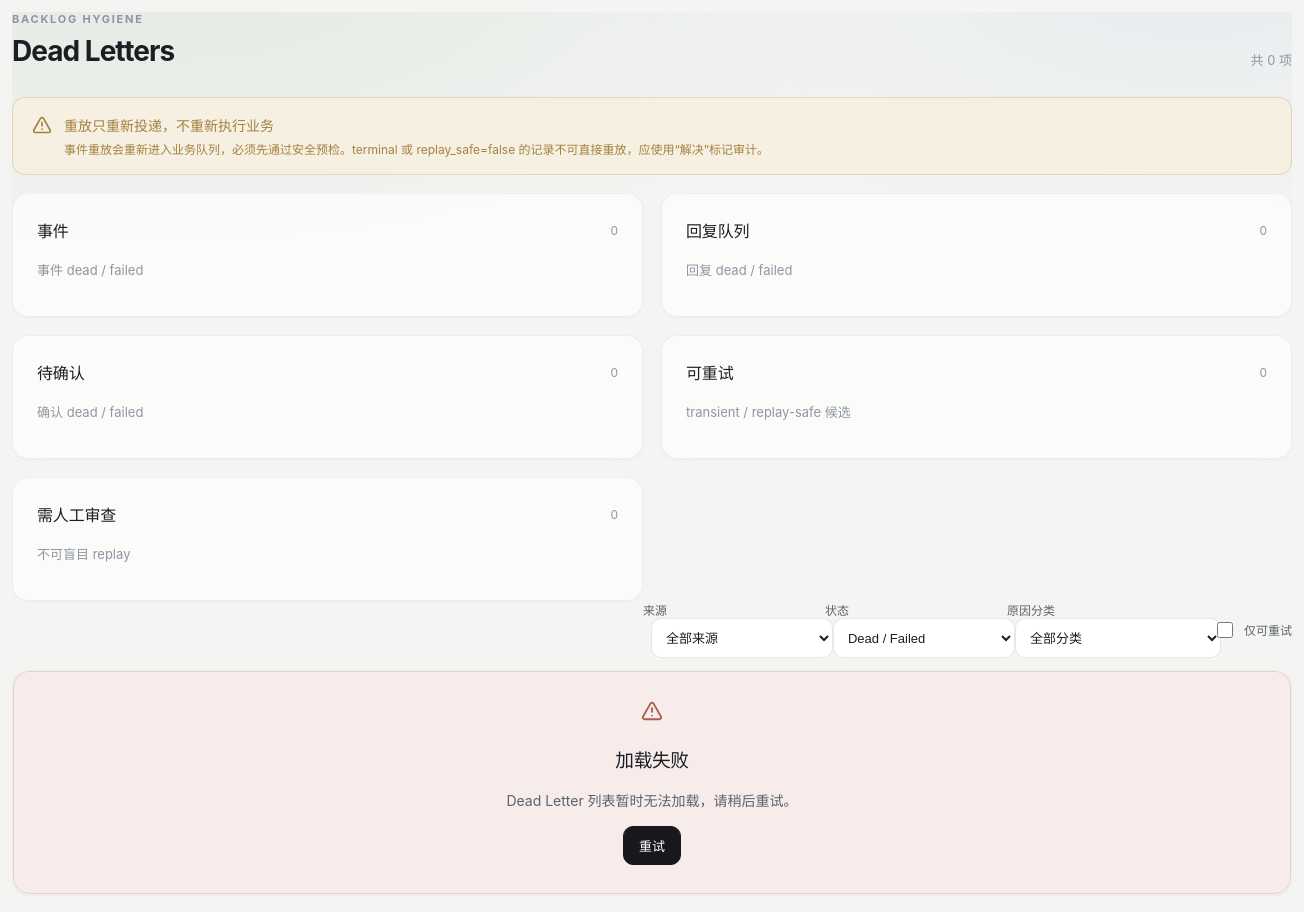
Scenario: DeadLettersPage › shows an error panel and refetches on retry
Expected: the heading "加载失败" is shown, [615,749,689,772]
Click the button "重试".
click(652, 846)  # box [623,826,681,865]
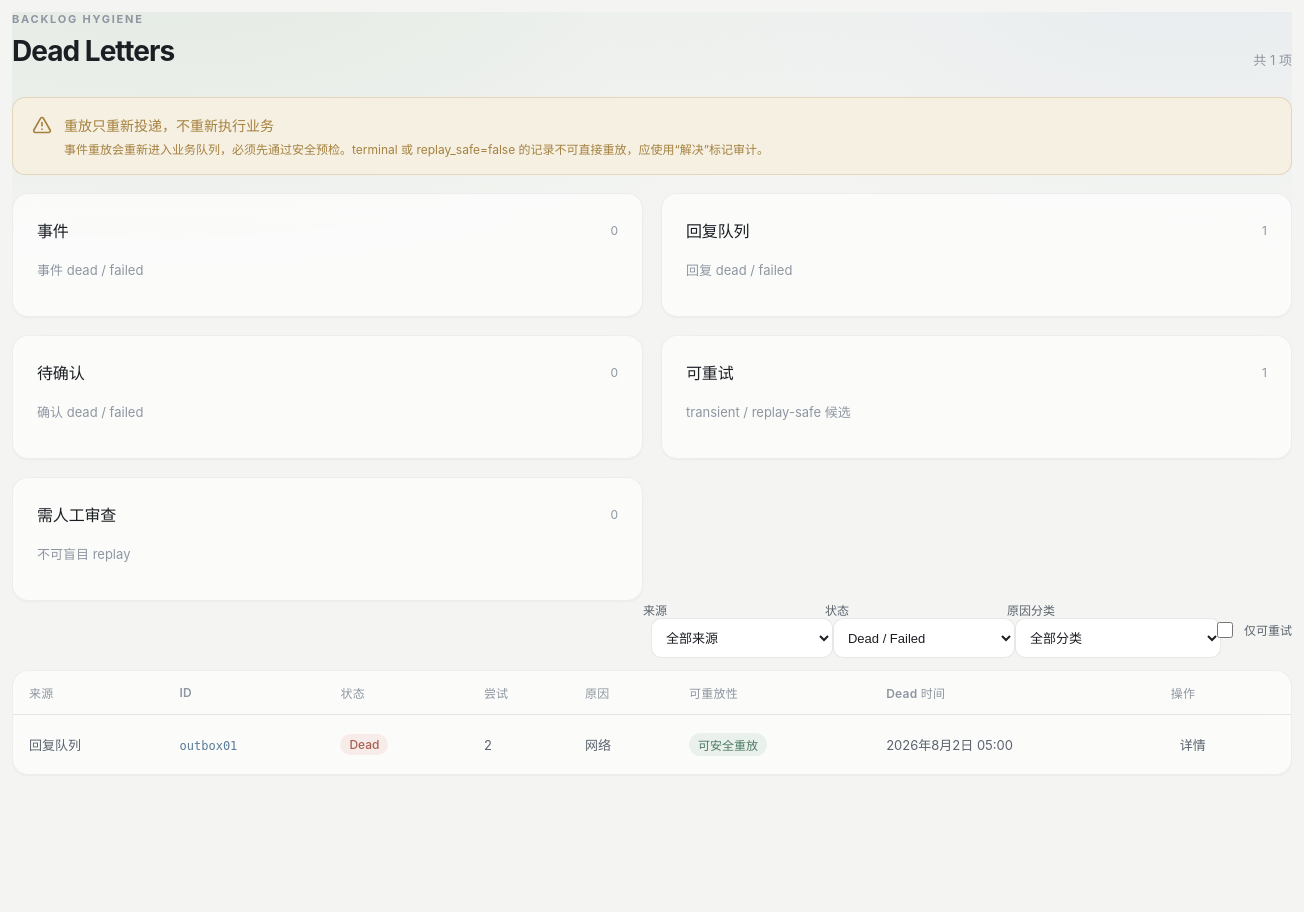
Expected: the text "outbox01" is shown, [180,738,237,752]
